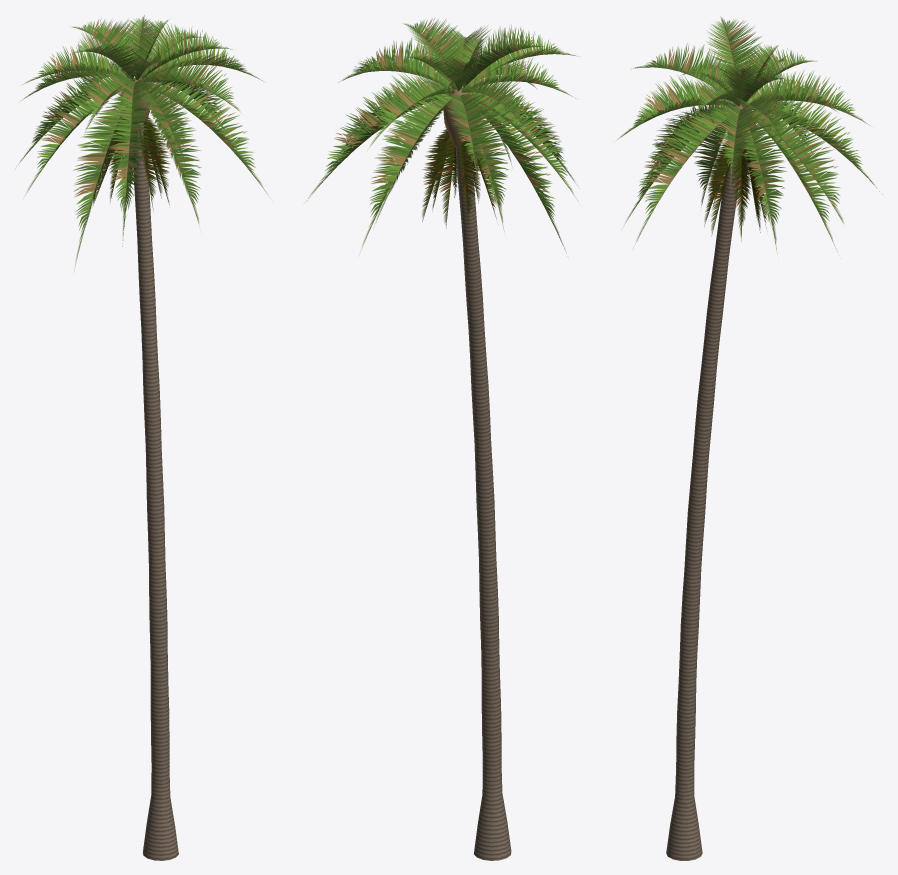
Rendered from palm_tall.glb.
The picture shows the model from 3 angles, left to right: view 1: azimuth 30°, elevation 25°; view 2: azimuth 150°, elevation 25°; view 3: azimuth 270°, elevation 25°; orthographic projection. The views are drawn at different scales.
Parts seen in each view (by area): view 1: body; view 2: body; view 3: body.
Part boxes in pixels (left/top/right/bottom): body: left=15, top=15, right=267, bottom=860; body: left=305, top=17, right=578, bottom=860; body: left=616, top=17, right=882, bottom=860.
Bounding box in the file's own units: 5.78 × 18.66 × 5.63.
Materials: 4 (3 with a texture image).
